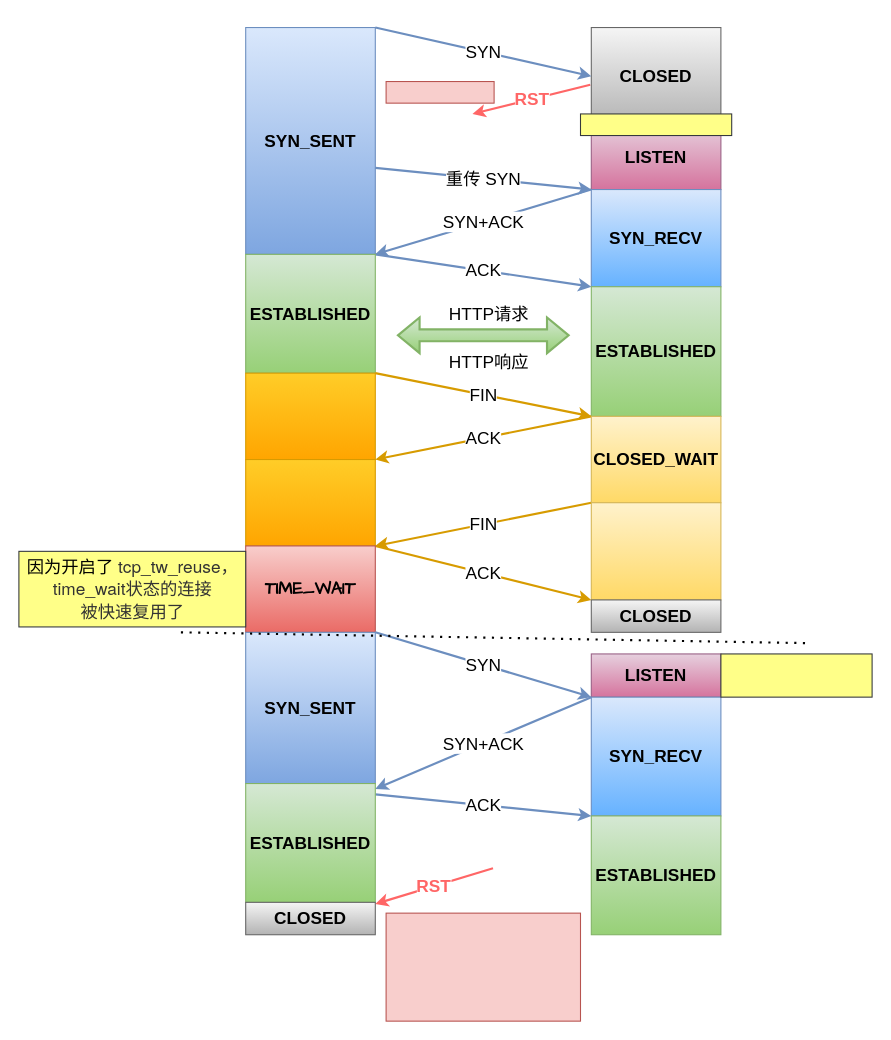
Some shapes in this 891 by 1040 pixel diagram are drawn without their labels. The shapes that lost their labels are listed below. From the top down, each one's centre as x and y in pixels, then its label:
At (439,91): "被网络阻塞".
At (655,124): "服务器启动了服务".
At (310,416): "FIN_WAIT_1".
At (310,502): "FIN_WAIT_2".
At (655,551): "LAST_ACK".
At (796,675): "建议与上一个连接 相同四元组的连接".
At (482,966): "延迟的 RST 抵达了 客户端，而且因为 RST 的序列号正好 在客户端接收窗口内， 所以被接受了".
